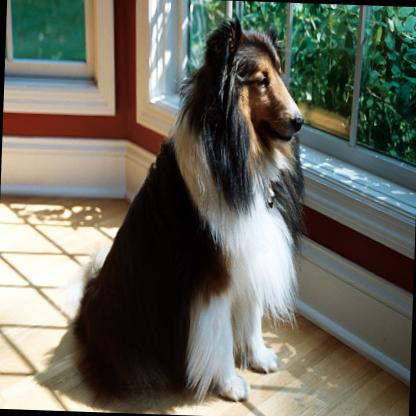Shetland_sheepdog: (32, 5, 310, 409)
